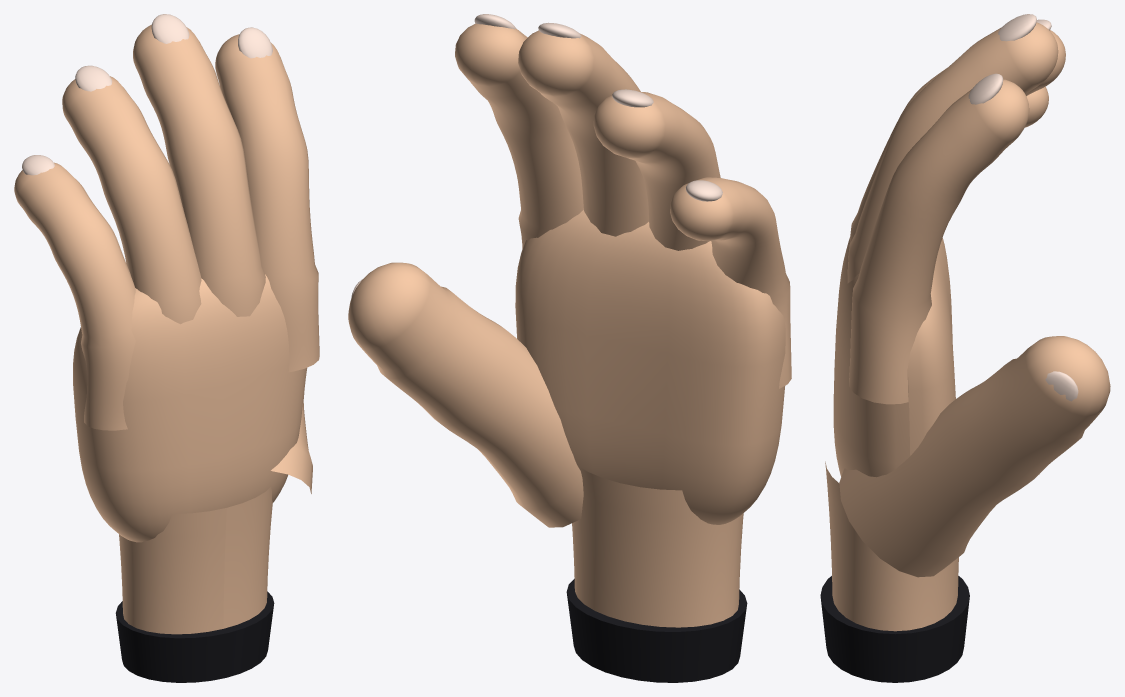
File: hand-left-relax.glb
3 renders of one model, left to right at view 1: azimuth 30°, elevation 25°; view 2: azimuth 150°, elevation 25°; view 3: azimuth 270°, elevation 25°, orthographic. The views are drawn at different scales.
Visible parts, largest first — view 1: hand-left-relax; view 2: hand-left-relax; view 3: hand-left-relax.
Boxes of the visible parts, bbox=[...] form: hand-left-relax: bbox=[14, 14, 319, 682]; hand-left-relax: bbox=[348, 14, 791, 682]; hand-left-relax: bbox=[820, 14, 1110, 682].
Size of the model in its own units: 0.11 by 0.1997 by 0.0811.
